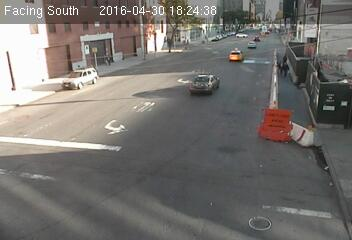neg: (73, 148, 110, 198), (115, 107, 146, 149), (175, 61, 202, 96), (261, 123, 283, 154)
pos: (277, 61, 294, 83), (275, 59, 285, 73), (281, 53, 289, 63)
